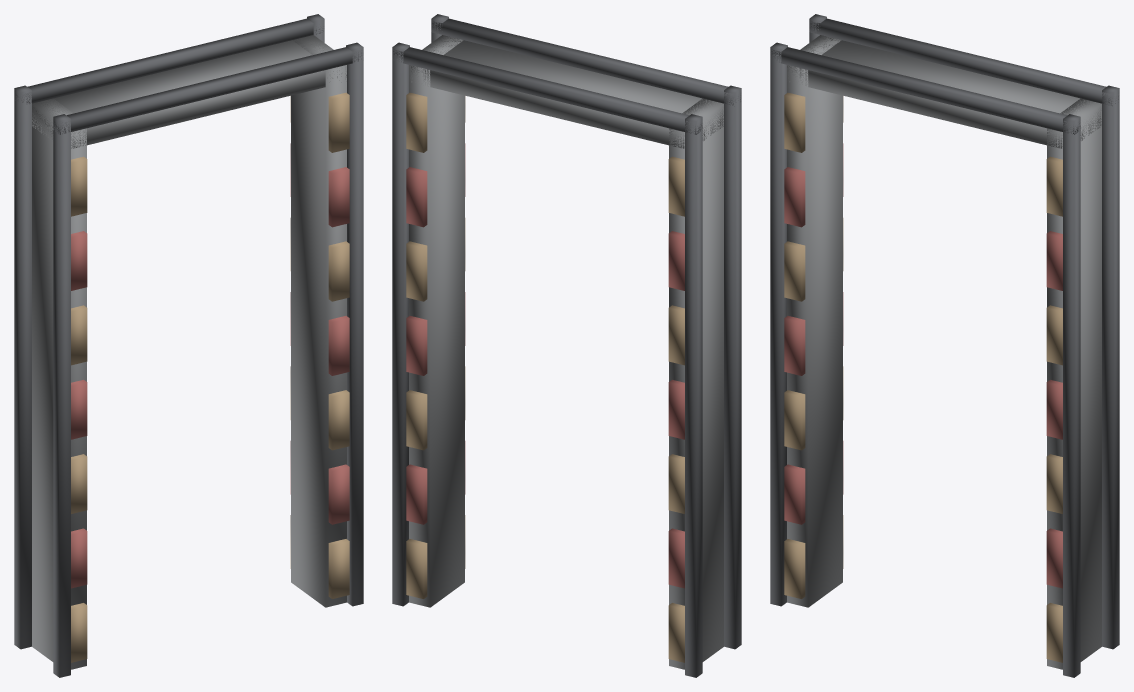
File: doorway_brick_return_w96_h200_d24.glb
3 renders of one model, left to right at view 1: azimuth 30°, elevation 25°; view 2: azimuth 150°, elevation 25°; view 3: azimuth 330°, elevation 25°, orthographic.
Visible parts, largest first — view 1: world; view 2: world; view 3: world.
Boxes of the visible parts, x1,y1,x2,y2 form: world: (14,14,363,677); world: (392,14,741,677); world: (770,14,1119,677).
Size of the model in its own units: 1.22 by 2.14 by 0.3165.
